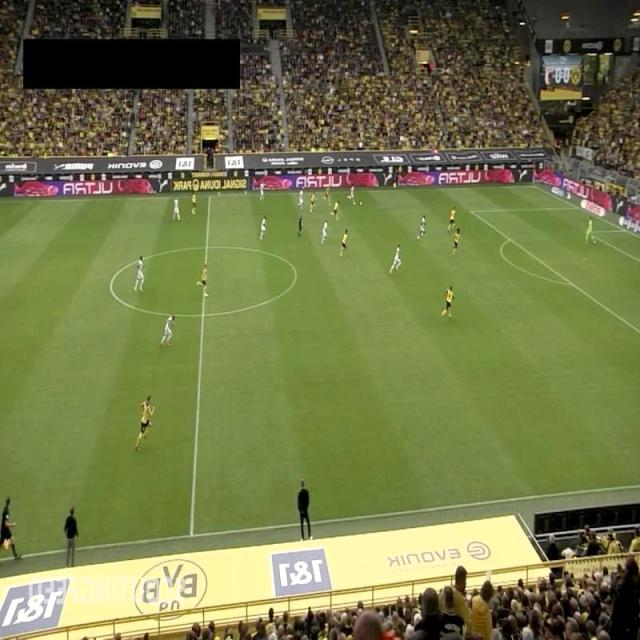bigarea_top_inner: (466, 206, 477, 217)
bigarea_top_outter: (574, 203, 584, 214)
bottom_arc_area_intersection: (564, 278, 582, 292)
corner: (526, 182, 538, 192)
halfcircle_bottom: (198, 308, 208, 319)
halfcircle_top: (202, 242, 212, 252)
midline_bottom_intersection: (185, 527, 198, 542)
midline_top_intersection: (205, 190, 216, 201)
smallarea_top_inner: (582, 228, 593, 238)
smallarea_top_outter: (620, 226, 630, 237)
top_arc_area_intersection: (504, 233, 516, 244)
